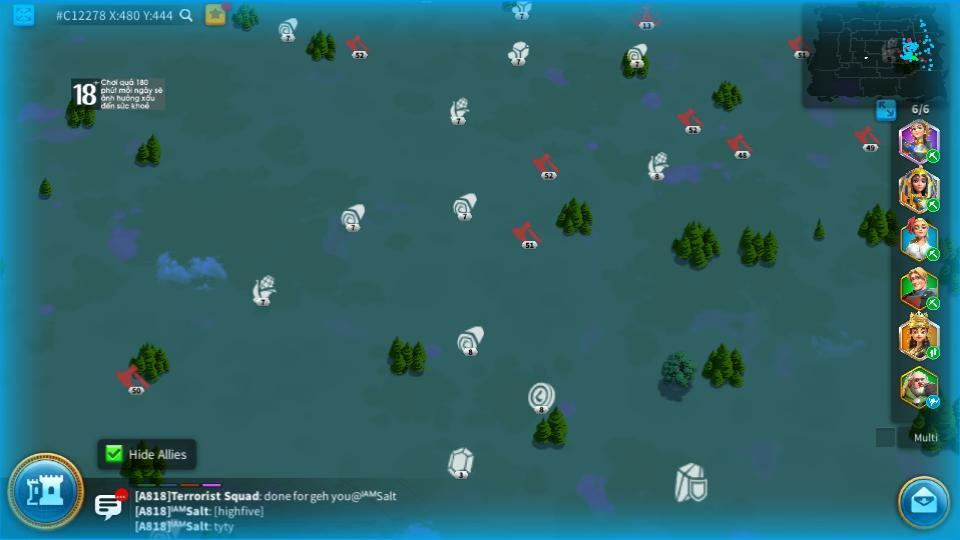gem-z-out: (446, 448, 475, 478)
march_farming: (923, 197, 940, 212), (924, 149, 939, 162), (924, 248, 939, 261), (925, 297, 941, 308)
march_idle: (925, 395, 942, 407)
march_marching: (925, 345, 941, 359)
